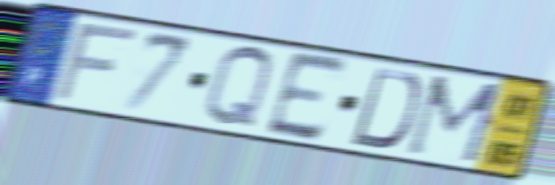7: (122, 27, 198, 117)
D: (346, 65, 425, 152)
E: (261, 48, 353, 145)
F: (49, 22, 143, 105)
M: (400, 72, 510, 169)
Q: (201, 42, 276, 132)
